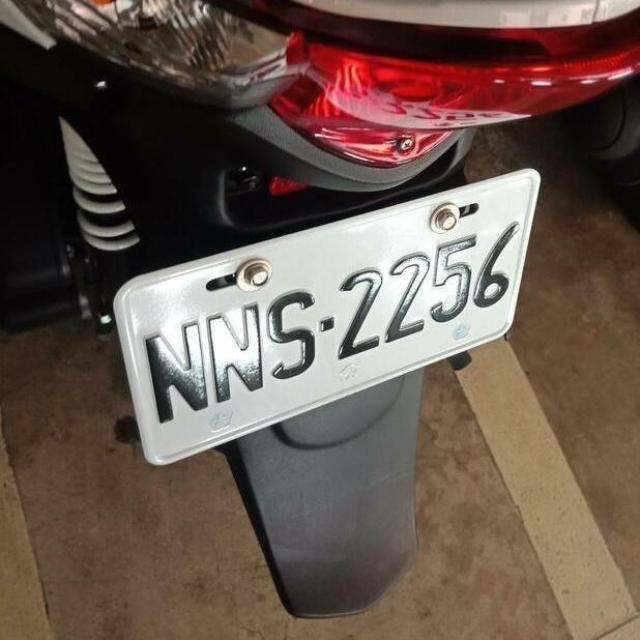W: (94, 167, 558, 465)
